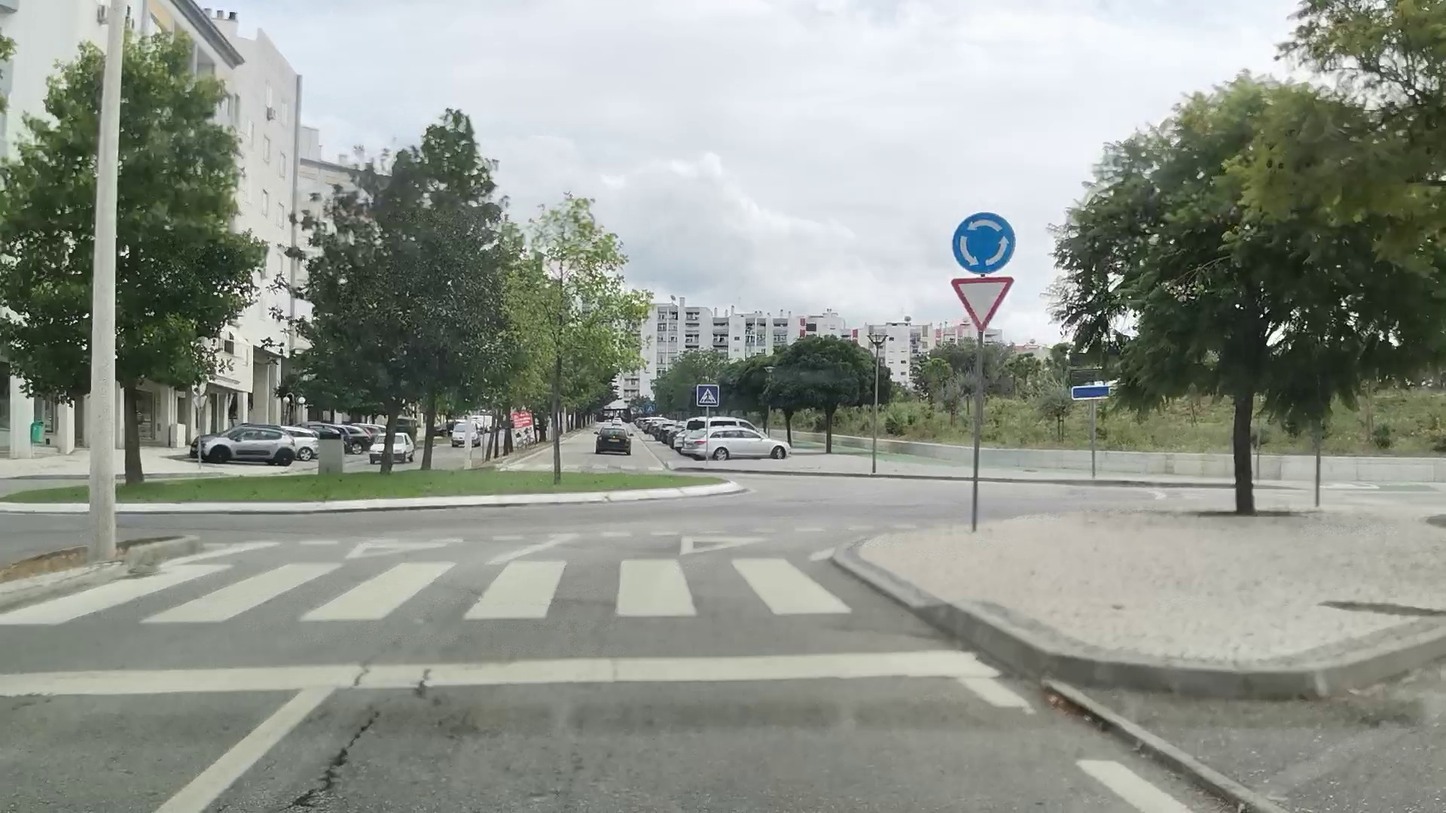Stairs: (0, 555, 856, 630)
